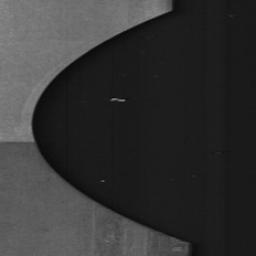Crescent gap: (32, 9, 186, 243)
